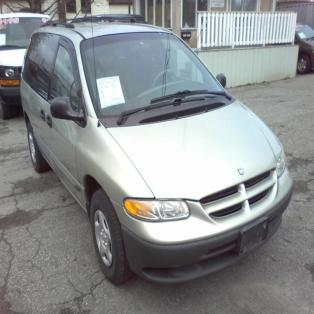Auto: (20, 20, 294, 288)
